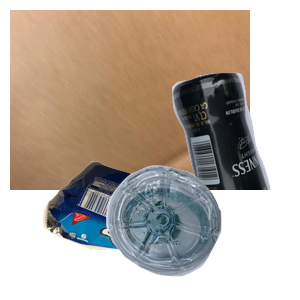cardboard: (10, 10, 250, 190)
glass: (106, 70, 300, 250)
plastic: (104, 163, 300, 300)
trash: (40, 158, 245, 300)
